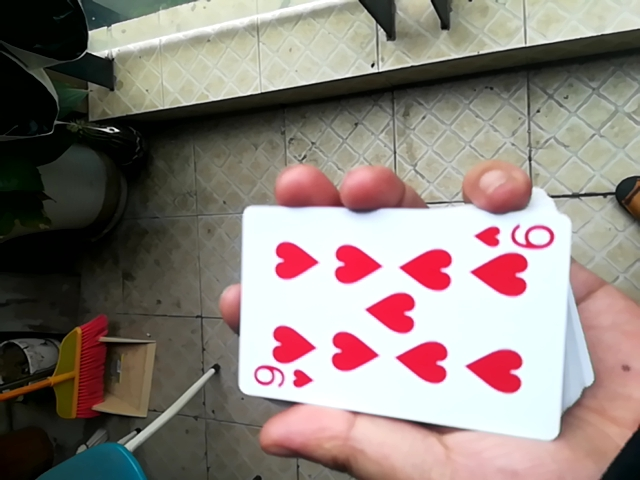hx 9: (234, 200, 582, 436)
